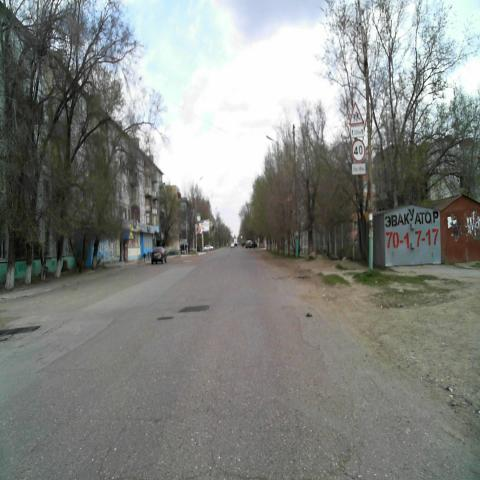8_2_1: (350, 125, 364, 137)
8_5_4: (351, 162, 367, 174)
